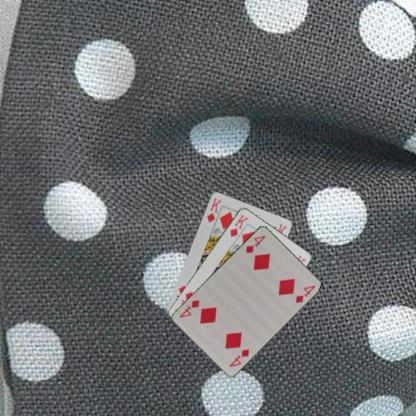4d: (226, 346, 251, 368), (243, 232, 267, 254)
Kd: (228, 212, 249, 238), (204, 195, 222, 224)
